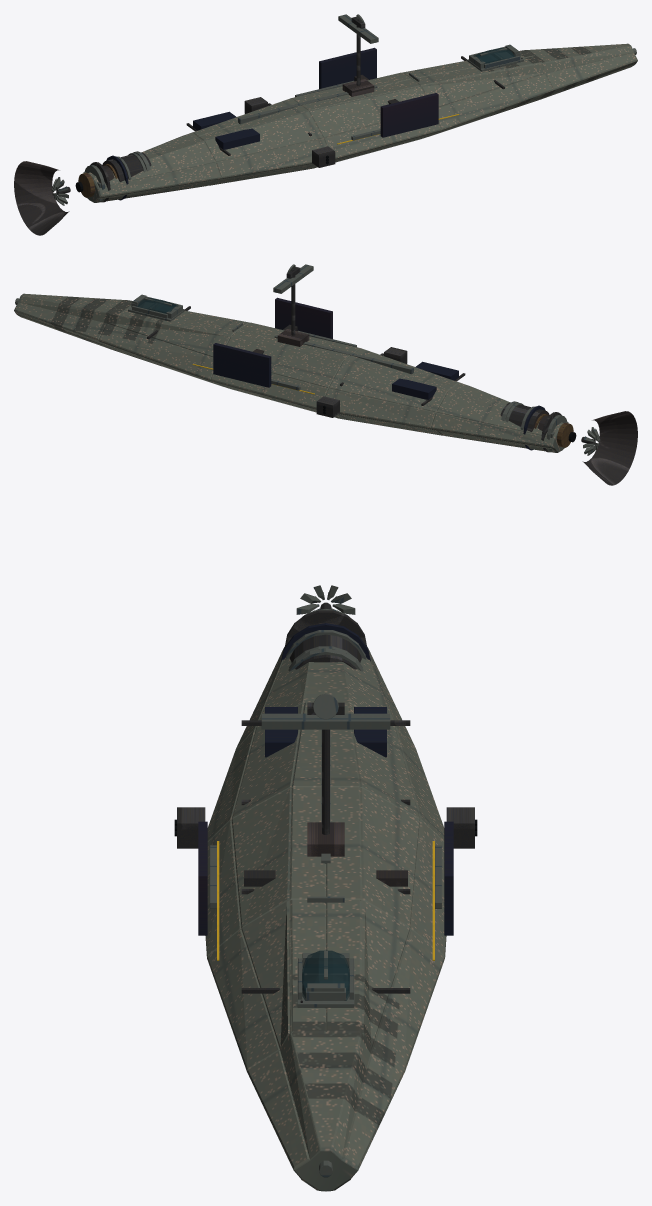
Rendered from survey_pin_production_v1_lod2.glb.
The picture shows the model from 3 angles, top to bottom: view 1: azimuth 30°, elevation 25°; view 2: azimuth 150°, elevation 25°; view 3: azimuth 270°, elevation 25°; orthographic projection. The views are drawn at different scales.
Visible parts, largest first — view 1: LOD2_Hull, LOD2_Mechanical, LOD2_Radiator, LOD2_Armor, LOD2_Canopy, LOD2_Ceramic; view 2: LOD2_Hull, LOD2_Mechanical, LOD2_Radiator, LOD2_Armor, LOD2_Canopy, LOD2_Ceramic; view 3: LOD2_Hull, LOD2_Armor, LOD2_Mechanical, LOD2_Radiator, LOD2_Canopy.
Boxes of the visible parts, left/top/right/bottom form: LOD2_Hull: left=87, top=43, right=637, bottom=202; LOD2_Mechanical: left=14, top=17, right=522, bottom=235; LOD2_Radiator: left=106, top=47, right=438, bottom=200; LOD2_Armor: left=51, top=14, right=636, bottom=205; LOD2_Canopy: left=473, top=48, right=515, bottom=63; LOD2_Ceramic: left=78, top=164, right=117, bottom=197; LOD2_Hull: left=14, top=293, right=564, bottom=452; LOD2_Mechanical: left=147, top=267, right=637, bottom=485; LOD2_Radiator: left=213, top=297, right=545, bottom=450; LOD2_Armor: left=15, top=264, right=600, bottom=455; LOD2_Canopy: left=136, top=298, right=178, bottom=313; LOD2_Ceramic: left=534, top=414, right=573, bottom=447; LOD2_Hull: left=205, top=647, right=446, bottom=1191; LOD2_Armor: left=210, top=585, right=441, bottom=1177; LOD2_Mechanical: left=177, top=602, right=474, bottom=1002; LOD2_Radiator: left=198, top=623, right=453, bottom=935; LOD2_Canopy: left=302, top=950, right=349, bottom=1000.
Size of what is drawn, in the model's own units: 11.86 by 2.61 by 2.58.
8 materials, 8 textured.
